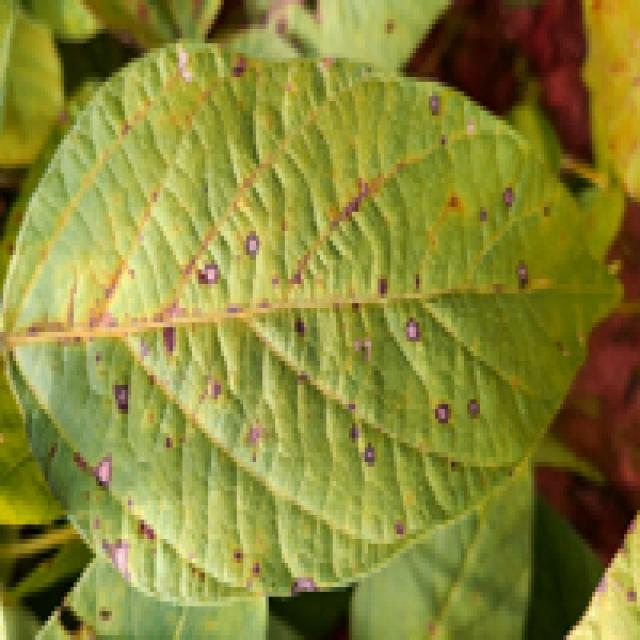leaf_spot: (6, 43, 618, 597)
